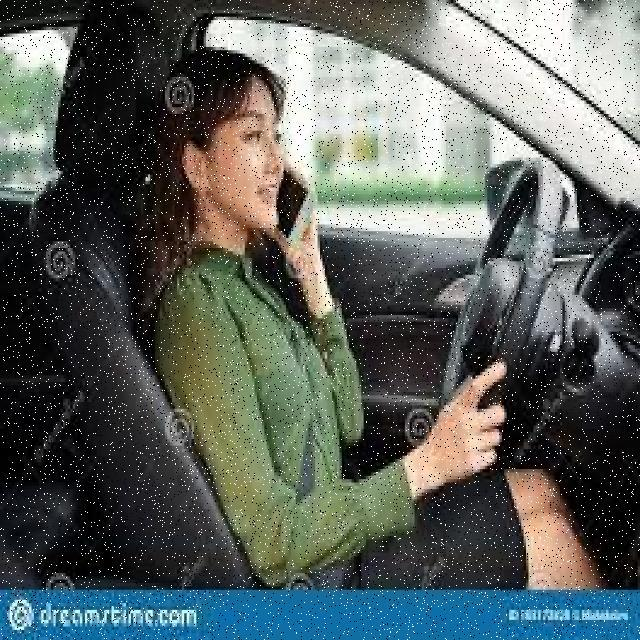seatbelt: (225, 240, 346, 556)
